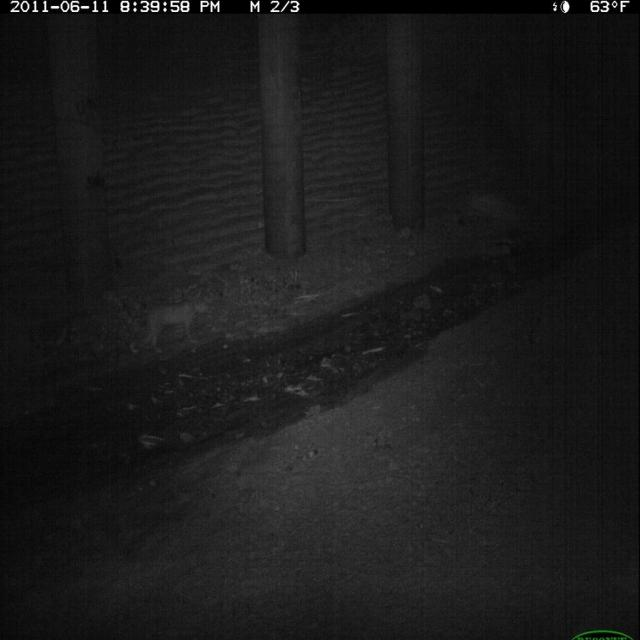bobcat: (139, 293, 213, 358)
